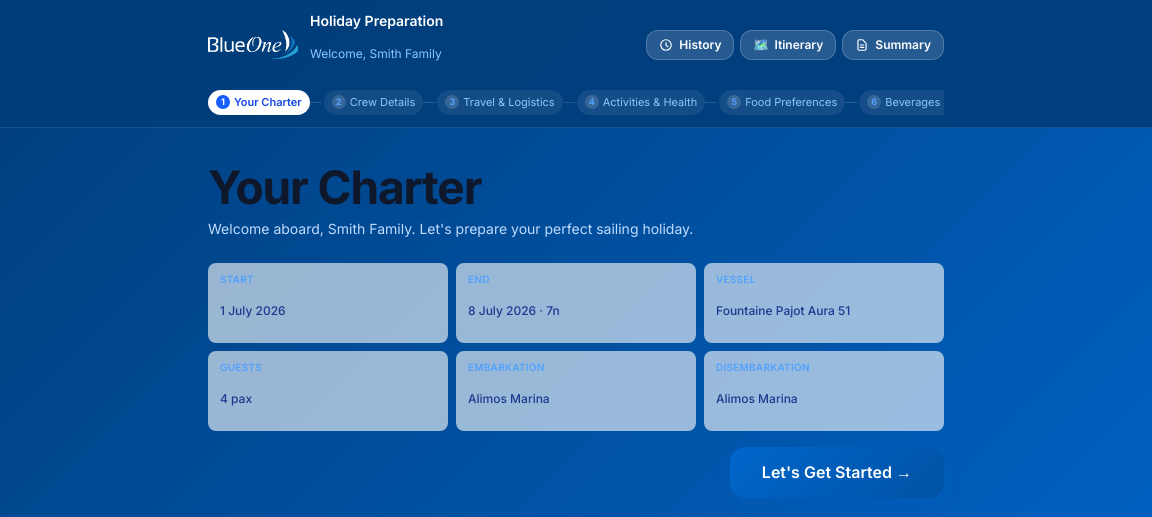
Scenario: ClientSpaceClient — Step 1: Crew Details › first crew card is expanded by default showing dietary and medical fields
Expected: the text "Holiday Preparation" is shown, [310,12,443,29]
Step 1. Click the button "Let's Get Started →" → [837, 473], box [730,447,944,498]
(page scrolled)
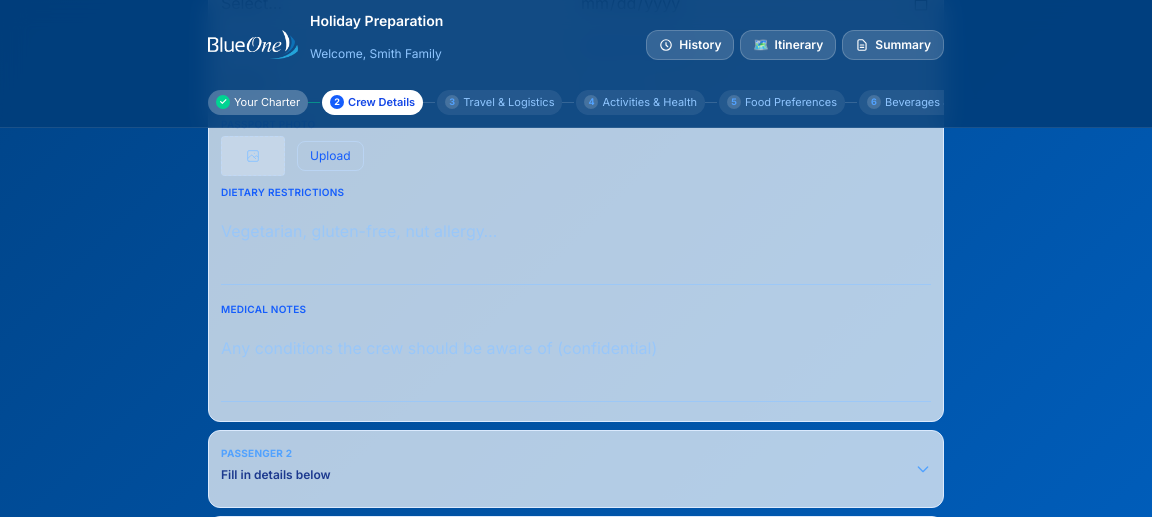
Expected: the text box with placeholder "Vegetarian, gluten-free, nut allergy…" is shown, [221,204,931,285]
Expected: the text box with placeholder "Any conditions the crew should be aware of (confidential)" is shown, [221,320,931,402]
